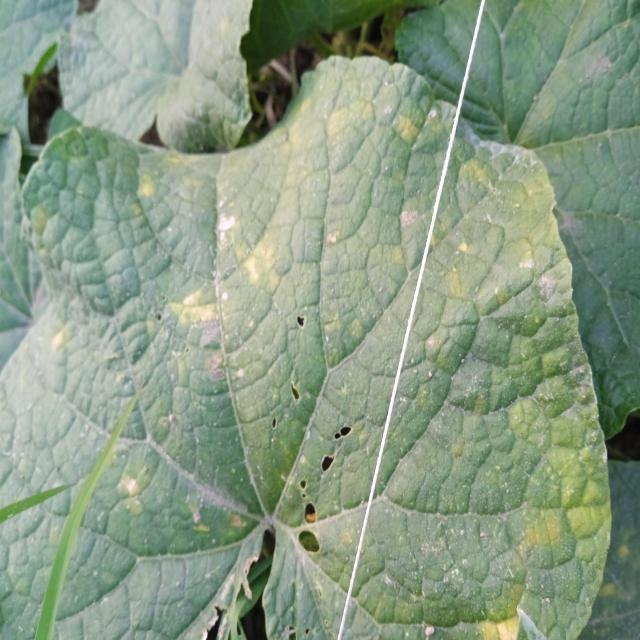cucumber_downy: (50, 86, 417, 464), (320, 183, 588, 636)
